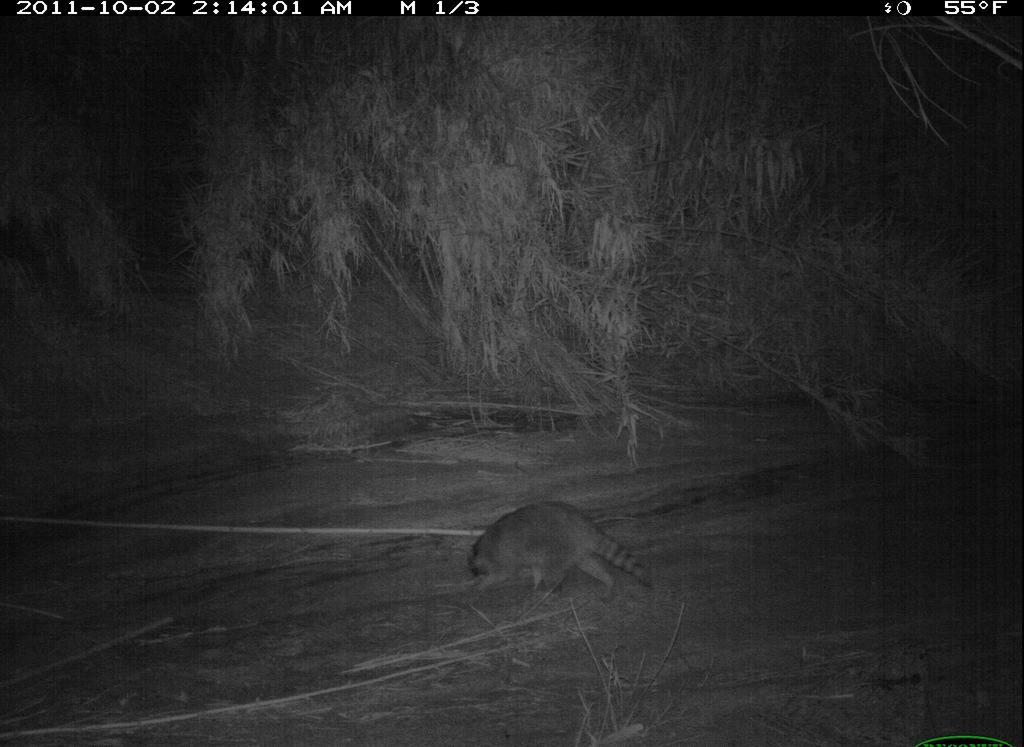raccoon: (464, 495, 658, 607)
